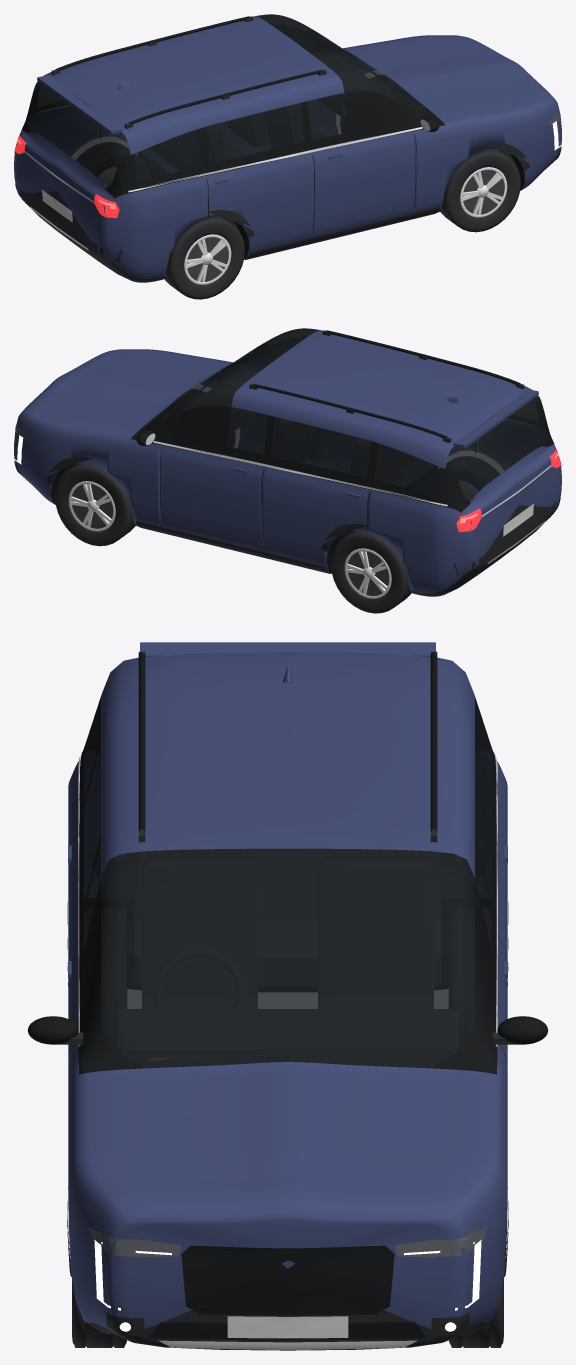
File: mahindra-xuv700-model-low.glb
3 renders of one model, top to bottom at view 1: azimuth 30°, elevation 25°; view 2: azimuth 150°, elevation 25°; view 3: azimuth 270°, elevation 25°, orthographic. The views are drawn at different scales.
Visible parts, largest first — view 1: Body, Wheel.004, Wheel.002, Wheel.003, SeatBack.002, SeatBack.001, Dashboard, SillCladding.001, Spoiler, RearBumper, WindowChrome.001, RoofRail (+8 smaller); view 2: Body, Wheel.003, Wheel.001, Wheel.004, SeatBack.002, Dashboard, SeatBack, SillCladding, Spoiler, RearBumper, WindowChrome, RoofRail.001 (+8 smaller); view 3: Body, Dashboard, SeatBack, SeatBack.001, Grille, SeatBack.002, SeatBase.002, Spoiler, Wheel.003, Wheel.004, Intake, PlateFront (+15 smaller).
Part boxes in pixels (x1,y1,x2,y2): Body: (14,14,561,282); Wheel.004: (164,216,244,299); Wheel.002: (440,149,520,232); Wheel.003: (76,142,149,188); SeatBack.002: (160,124,225,167); SeatBack.001: (264,104,303,148); Dashboard: (318,55,393,120); SillCladding.001: (245,207,440,259); Spoiler: (37,75,122,134); RearBumper: (15,184,122,261); WindowChrome.001: (128,127,422,192); RoofRail: (55,16,249,70); Body: (14,328,561,596); Wheel.003: (331,530,411,613); Wheel.001: (55,463,135,546); Wheel.004: (426,456,499,502); SeatBack.002: (350,438,415,481); Dashboard: (182,369,257,434); SeatBack: (272,418,311,462); SillCladding: (135,521,330,573); Spoiler: (453,389,538,448); RearBumper: (453,498,560,575); WindowChrome: (153,441,447,506); RoofRail.001: (326,330,520,384); Body: (68,652,507,1350); Dashboard: (118,1009,457,1068); SeatBack: (318,860,433,997); SeatBack.001: (142,860,257,997); Grille: (181,1245,394,1315); SeatBack.002: (135,849,440,919); SeatBase.002: (135,917,440,985); Spoiler: (140,642,435,656); Wheel.003: (449,908,491,1048); Wheel.004: (84,908,126,1048); Intake: (149,1322,426,1339); PlateFront: (227,1316,348,1338).
Bounding box in the file's own units: 4.63 × 1.76 × 2.25.
